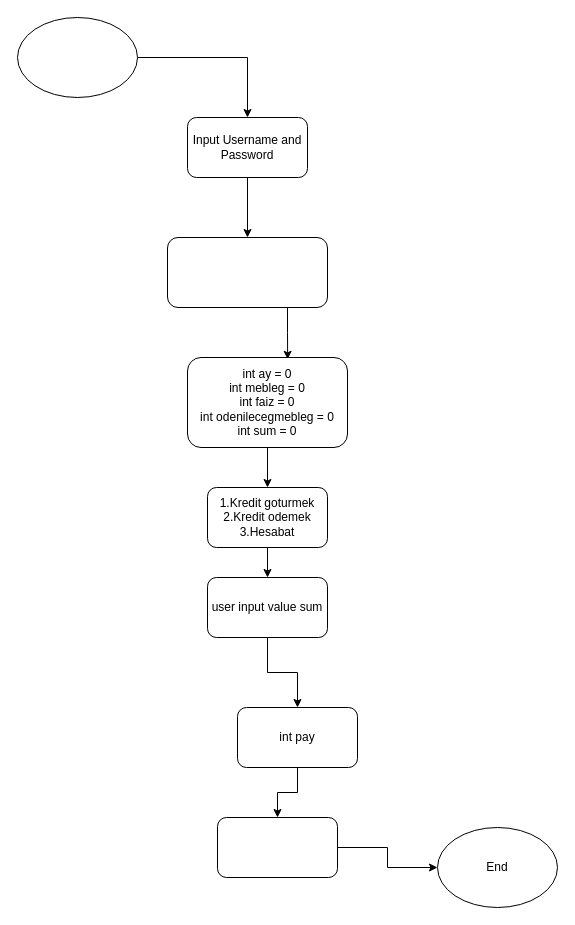
Some shapes in this 575 by 925 pixel diagram are drawn without their labels. Each missing label, with the centre of its shape:
Start: the point at 77,57
string user = "seymur0308" string password = 12345: the point at 247,272
value report: the point at 277,847
